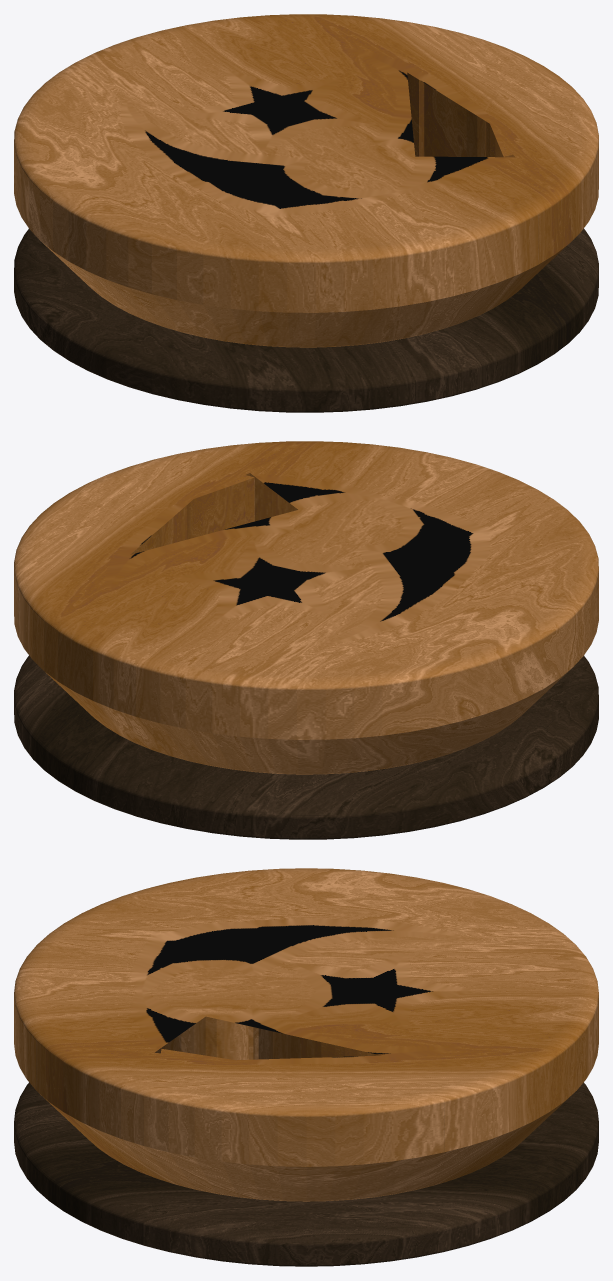
Rendered from lighthusar.fbx.
3 views of the same model, one above another, from view 1: azimuth 30°, elevation 25°; view 2: azimuth 150°, elevation 25°; view 3: azimuth 270°, elevation 25° (orthographic).
Parts seen in each view (by area): view 1: PedestalTopPart_Cylinder.002, PedestalBottomPart_Cylinder.001; view 2: PedestalTopPart_Cylinder.002, PedestalBottomPart_Cylinder.001; view 3: PedestalTopPart_Cylinder.002, PedestalBottomPart_Cylinder.001.
Boxes of the visible parts, x1=… form: PedestalTopPart_Cylinder.002: x1=14, y1=14, x2=598, y2=347; PedestalBottomPart_Cylinder.001: x1=14, y1=228, x2=598, y2=412; PedestalTopPart_Cylinder.002: x1=14, y1=441, x2=598, y2=774; PedestalBottomPart_Cylinder.001: x1=14, y1=655, x2=598, y2=839; PedestalTopPart_Cylinder.002: x1=14, y1=868, x2=598, y2=1201; PedestalBottomPart_Cylinder.001: x1=14, y1=1082, x2=598, y2=1266.
Bounding box in the file's own units: 30 × 9.09 × 30.
Materials: 2 (2 with a texture image).
